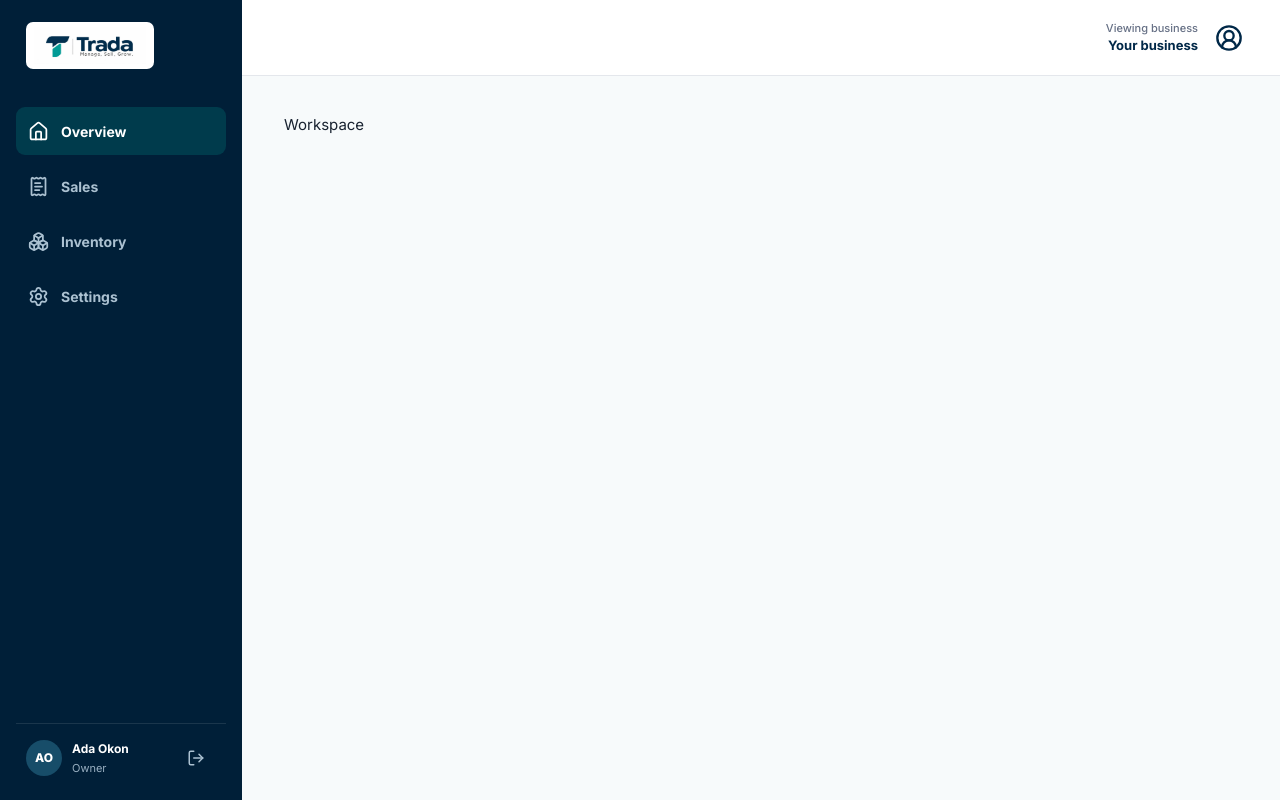
Test case: opens an account menu before signing out
Later steps or results of the test are not shown.
Click the button named "Open account menu": [1229, 38] box [1208,16,1250,58]
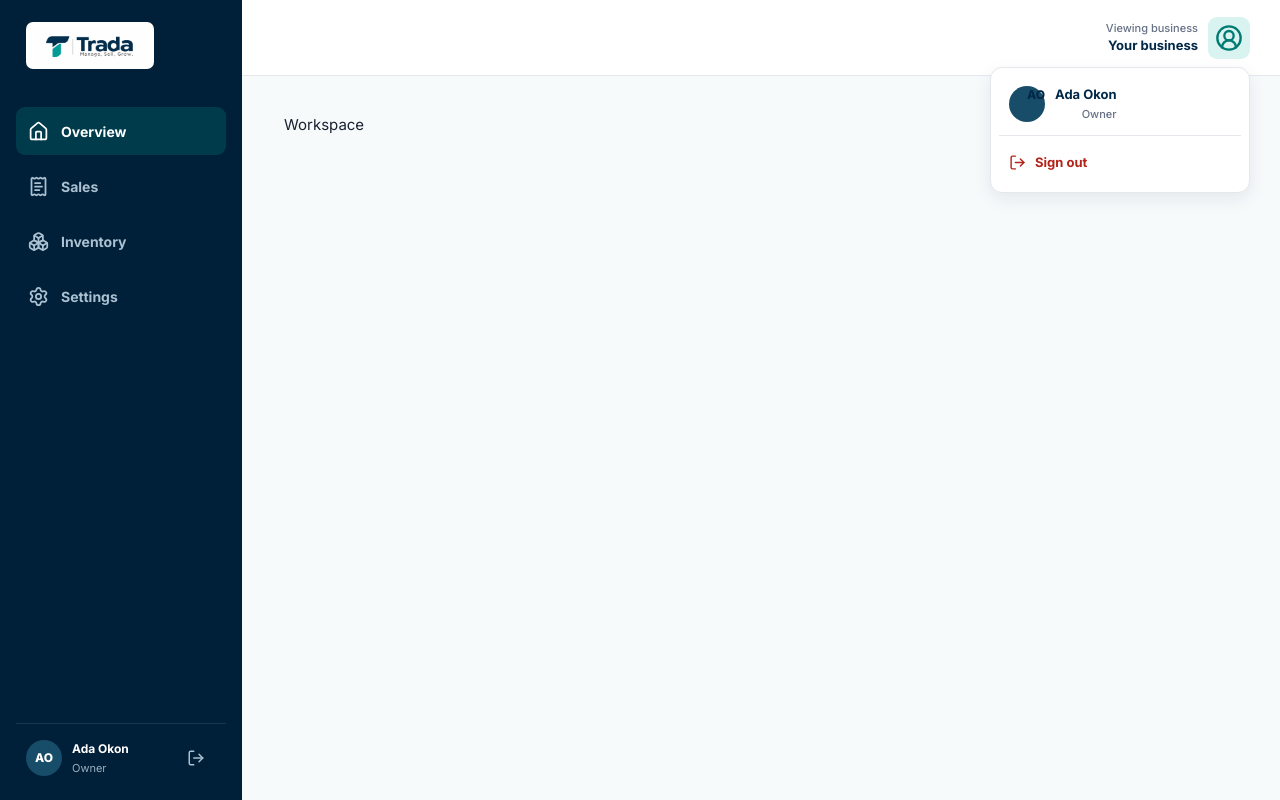
Expected: the menu shows "Ada Okon", [1055,86,1117,102]
